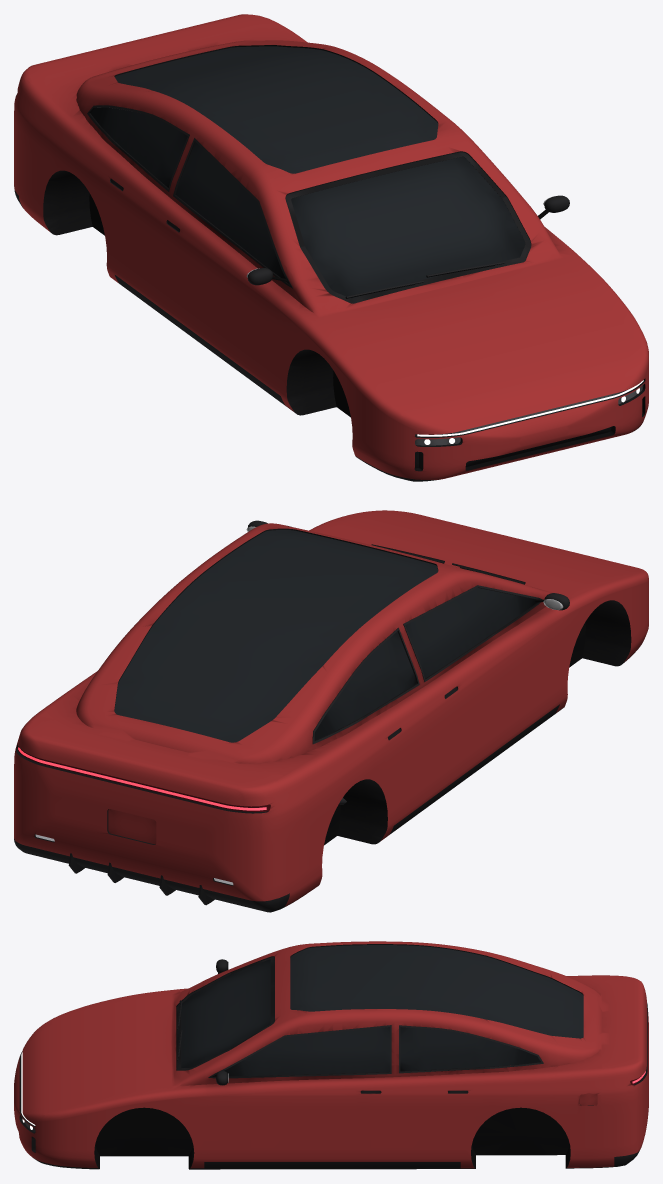
File: surge.m.glb
3 views of the same model, one above another, from view 1: azimuth 30°, elevation 25°; view 2: azimuth 150°, elevation 25°; view 3: azimuth 270°, elevation 25° (orthographic). The views are drawn at different scales.
Parts seen in each view (by area): view 1: paint_lodm, window_lodm, glass_lodm, trim_lodm, head_lodm, grille_lodm; view 2: paint_lodm, glass_lodm, trim_lodm, window_lodm, tail_lodm, tailglow_lodm; view 3: paint_lodm, glass_lodm, window_lodm, trim_lodm.
Part boxes in pixels (x1=…): paint_lodm: x1=14, y1=14, x2=648, y2=479; window_lodm: x1=90, y1=107, x2=525, y2=298; glass_lodm: x1=115, y1=46, x2=438, y2=173; trim_lodm: x1=14, y1=45, x2=645, y2=481; head_lodm: x1=415, y1=385, x2=643, y2=445; grille_lodm: x1=415, y1=427, x2=611, y2=468; paint_lodm: x1=14, y1=510, x2=648, y2=906; glass_lodm: x1=114, y1=530, x2=438, y2=742; trim_lodm: x1=14, y1=520, x2=640, y2=912; window_lodm: x1=314, y1=588, x2=536, y2=740; tail_lodm: x1=17, y1=747, x2=270, y2=812; tailglow_lodm: x1=18, y1=747, x2=266, y2=810; paint_lodm: x1=14, y1=941, x2=648, y2=1168; glass_lodm: x1=290, y1=945, x2=583, y2=1038; window_lodm: x1=181, y1=959, x2=540, y2=1076; trim_lodm: x1=19, y1=944, x2=647, y2=1169.
Size of what is drawn, in the model's own units: 2.22 by 1.25 by 4.96.
